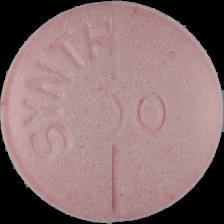0074-7148: (0, 0, 224, 224)
